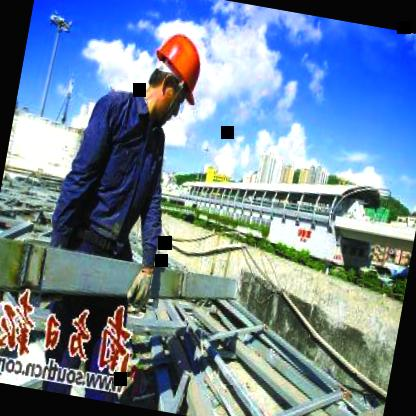helmet: (138, 20, 213, 126)
